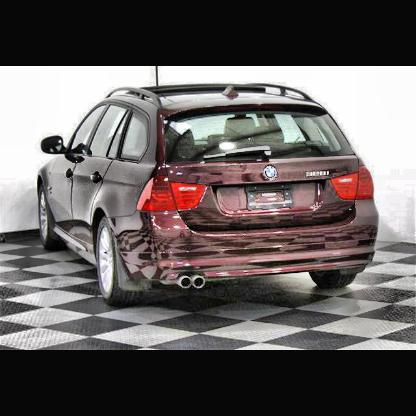BMW 3 Series Wagon 2012: (39, 67, 379, 308)
